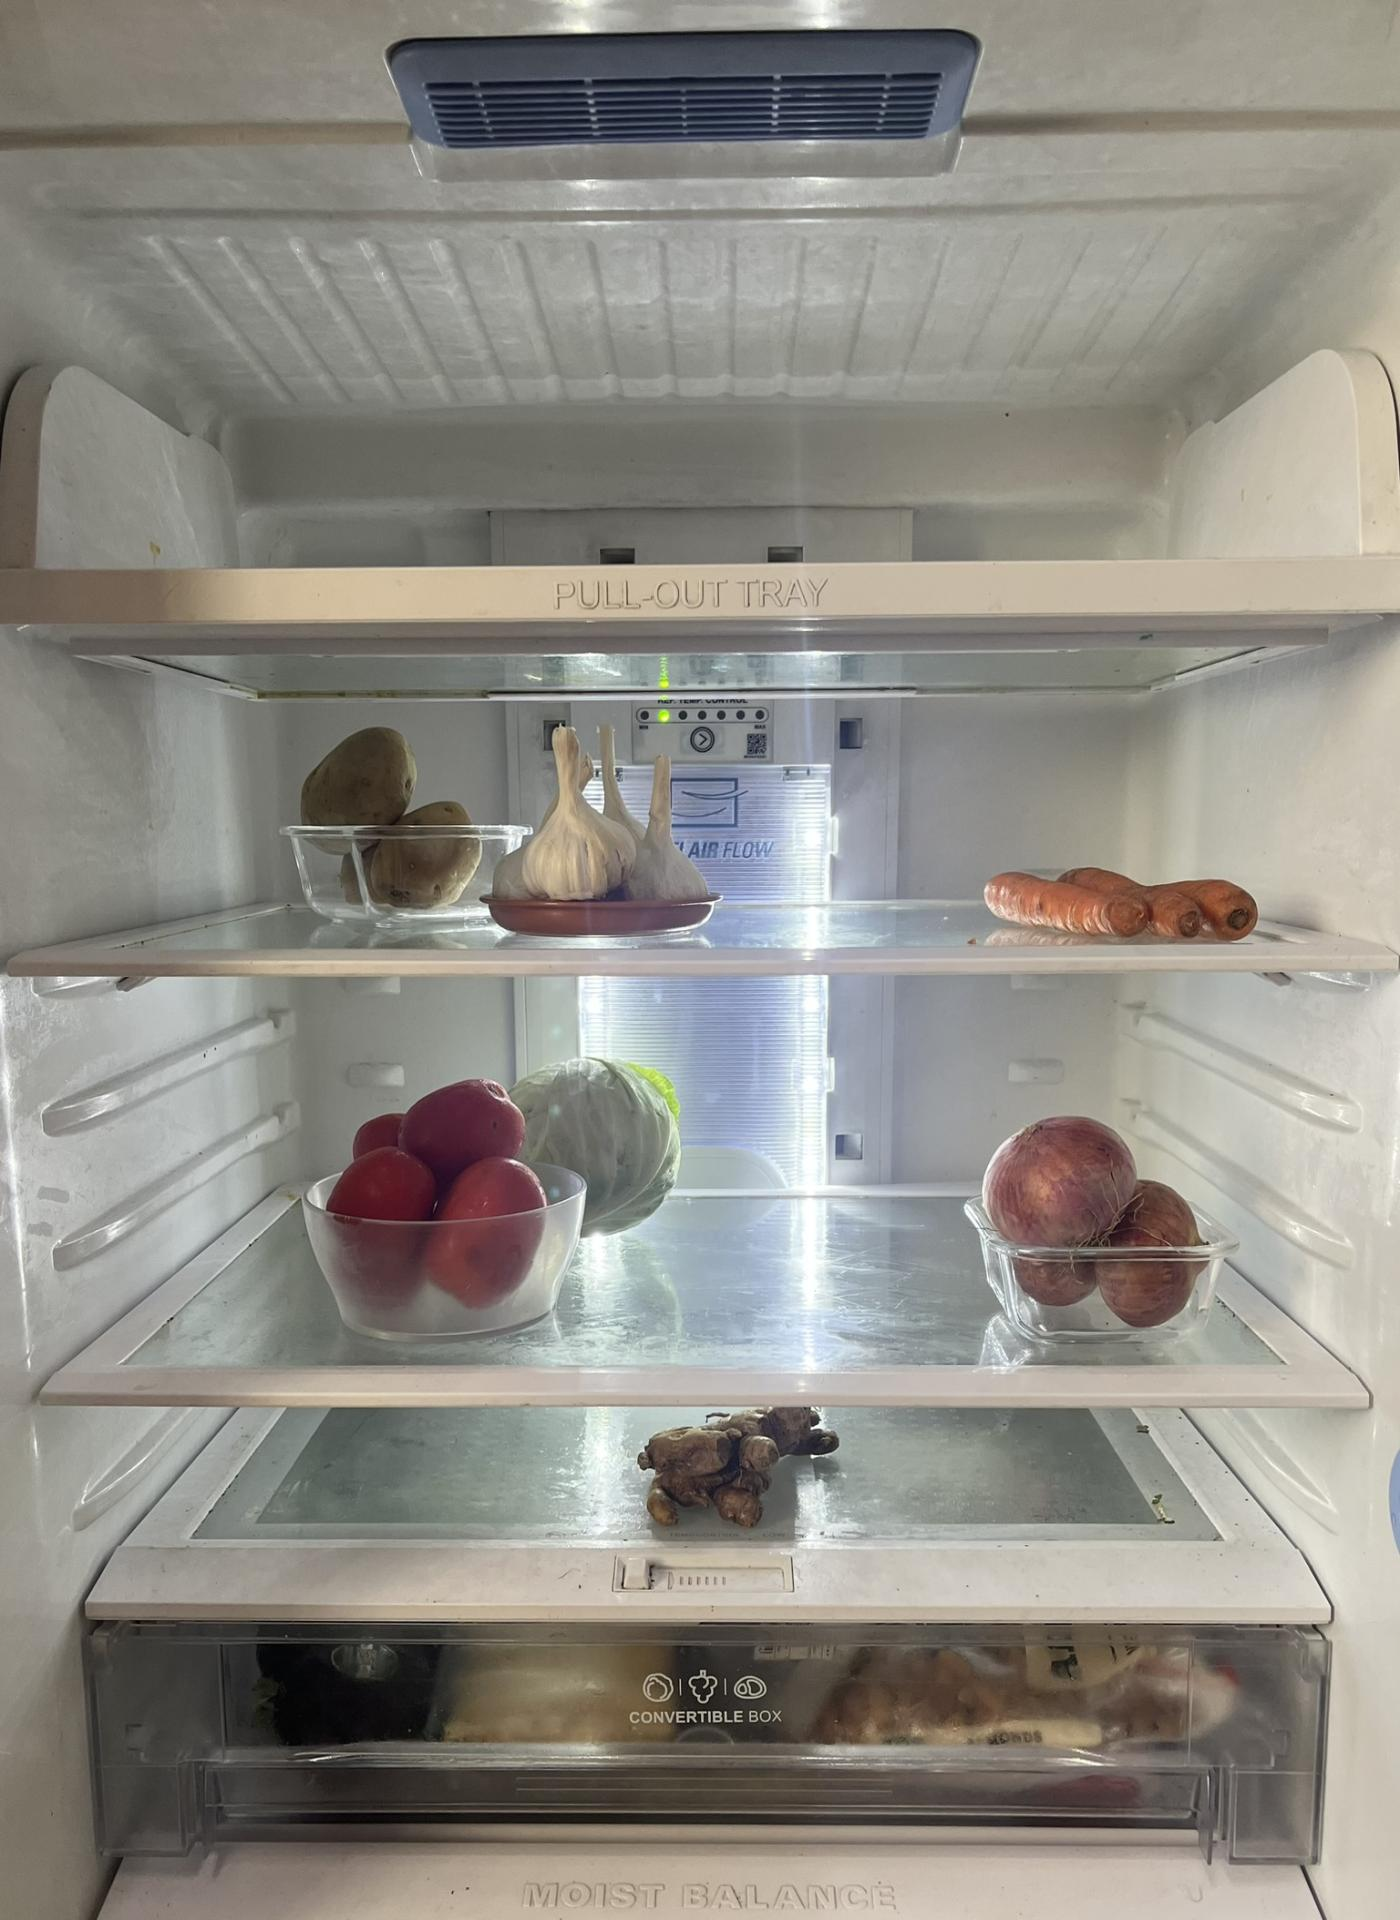cabbage: (522, 1052, 686, 1230)
carrots: (988, 865, 1258, 935)
garlic: (499, 720, 707, 900)
ginger: (638, 1400, 842, 1531)
onion: (984, 1111, 1203, 1330)
potato: (303, 724, 485, 917)
tomato: (319, 1072, 544, 1306)
